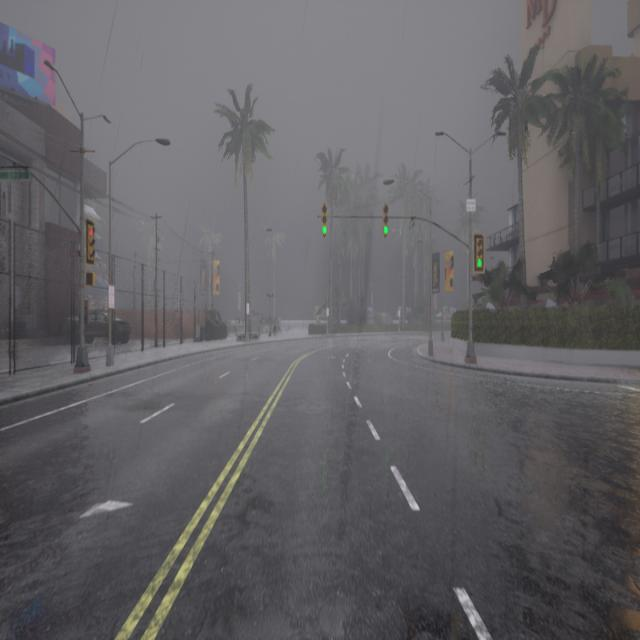6: (86, 224, 95, 238)
9: (473, 232, 485, 274), (86, 220, 96, 264), (320, 204, 329, 236), (383, 203, 390, 237)
bien_hieu_lenh: (469, 260, 484, 270), (320, 224, 329, 235), (382, 223, 391, 233)
